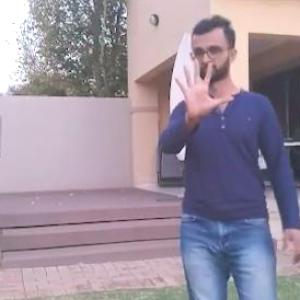follow_hand: (170, 55, 234, 125)
